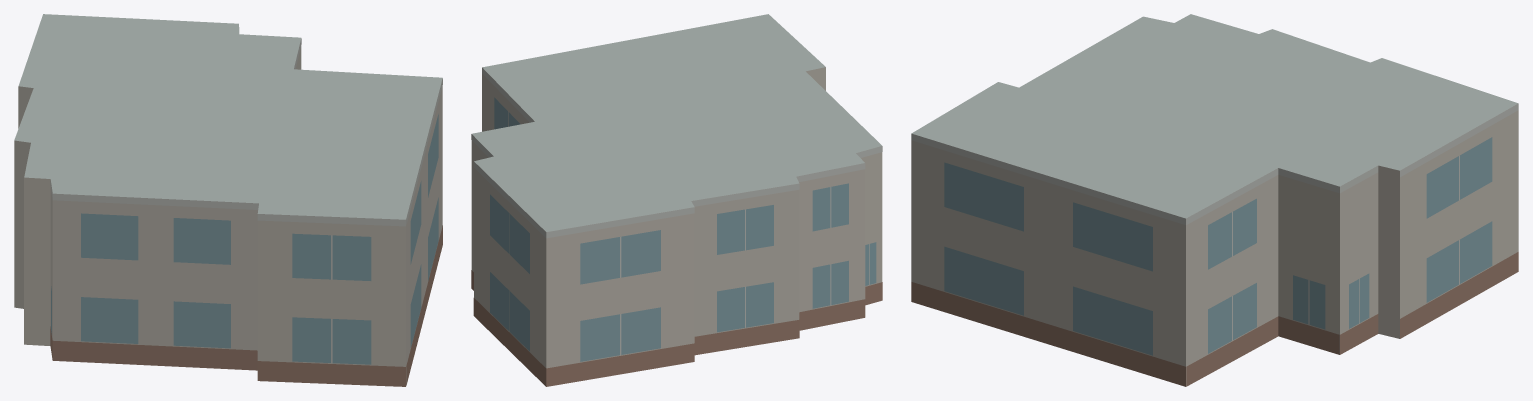
File: survey-upis-32654955.glb
3 views of the same model, side by side, from view 1: azimuth 30°, elevation 25°; view 2: azimuth 150°, elevation 25°; view 3: azimuth 270°, elevation 25° (orthographic). The views are drawn at different scales.
Visible parts, largest first — view 1: survey-upis-32654955.tmp; view 2: survey-upis-32654955.tmp; view 3: survey-upis-32654955.tmp.
Part boxes in pixels (x1,y1,x2,y2): survey-upis-32654955.tmp: (14,14,442,386); survey-upis-32654955.tmp: (471,14,882,386); survey-upis-32654955.tmp: (911,14,1518,386).
Size of the model in its own units: 15.91 by 6.1 by 19.96.
